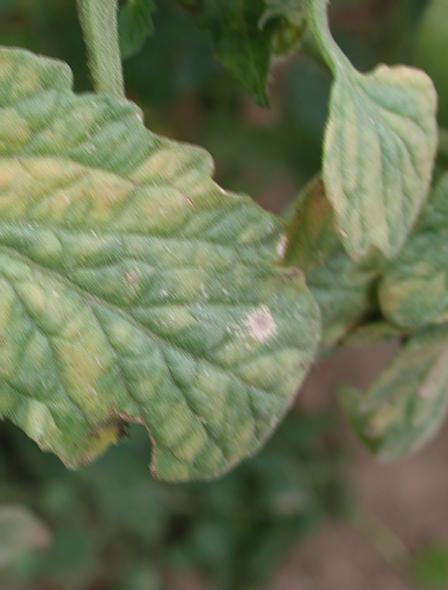Tomato mold leaf: (0, 47, 335, 506), (311, 62, 431, 286)
